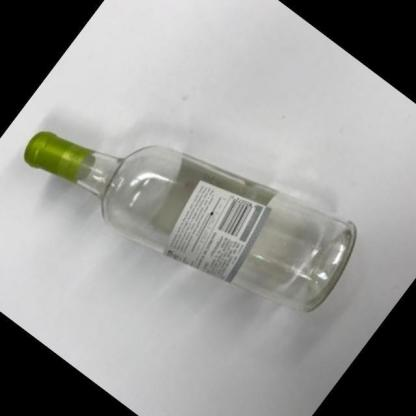Can: (22, 130, 358, 314)
